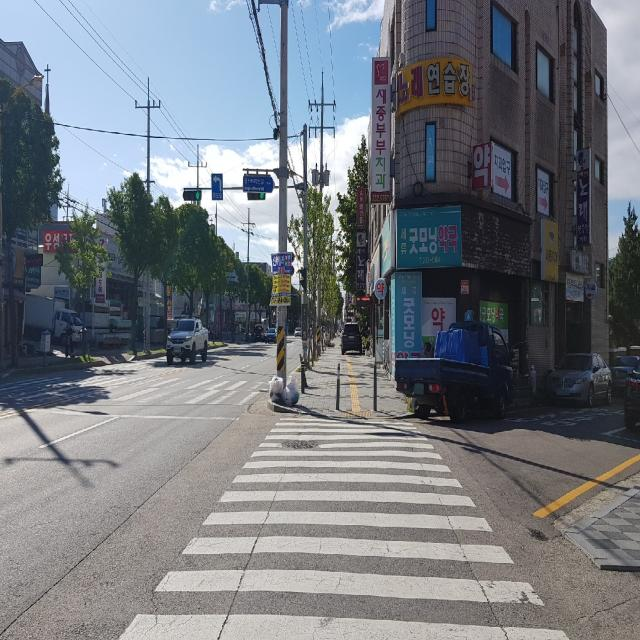횡단보도: (114, 416, 570, 639), (24, 360, 268, 402)
